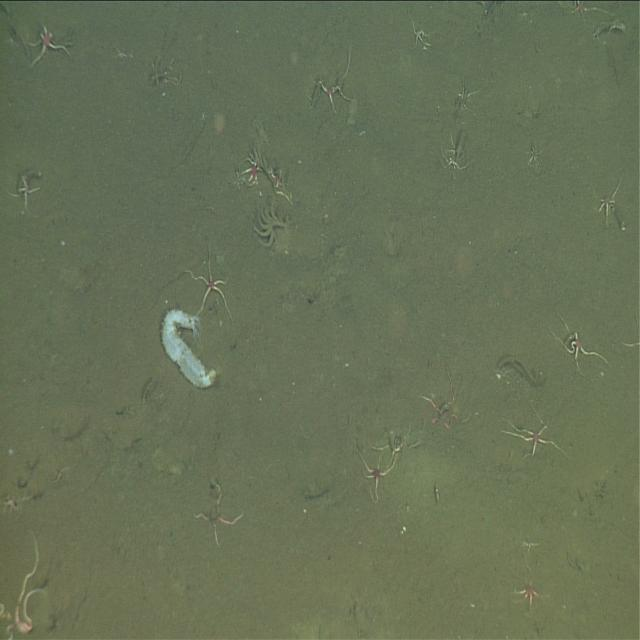Brittle Star: (176, 248, 241, 329), (500, 400, 565, 468), (303, 48, 364, 116), (415, 362, 469, 438), (197, 476, 248, 547), (351, 438, 402, 505), (21, 11, 77, 72), (502, 570, 554, 622)
Not Brittle Star: (158, 295, 222, 400)
